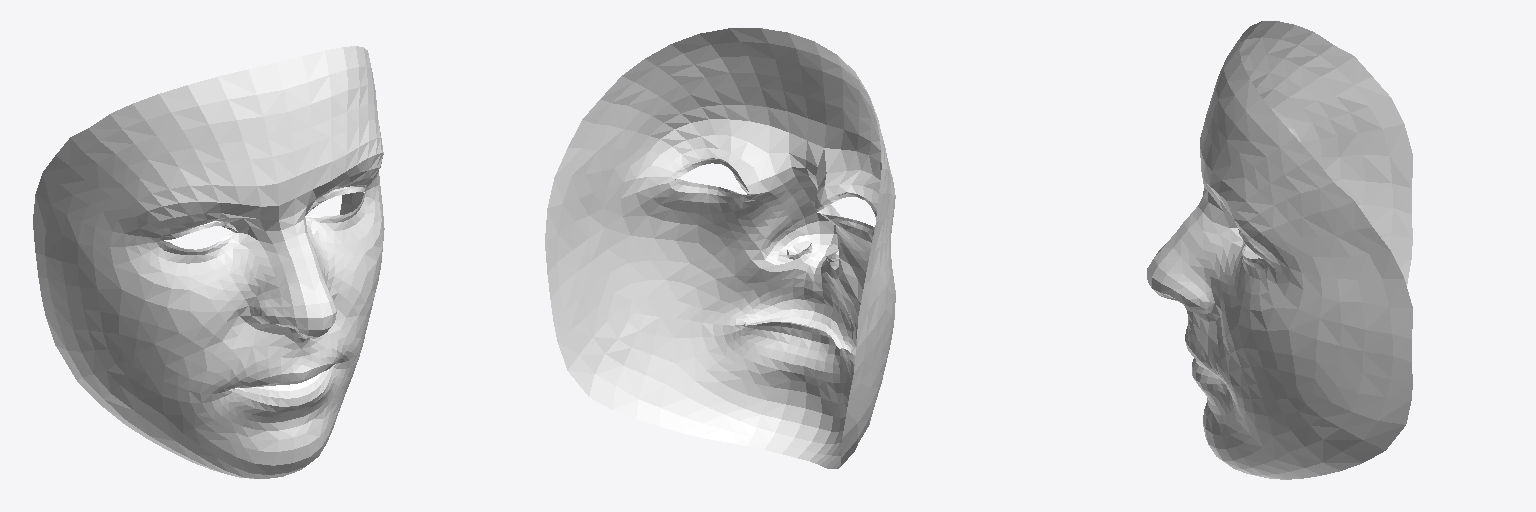
Rendered from noseSneer_R.obj.
3 views of the same model, side by side, from view 1: azimuth 30°, elevation 25°; view 2: azimuth 150°, elevation 25°; view 3: azimuth 270°, elevation 25° (orthographic).
Parts seen in each view (by area): view 1: default; view 2: default; view 3: default.
Boxes of the visible parts, <box> form: default: <box>33,46,384,478</box>; default: <box>545,28,895,468</box>; default: <box>1147,21,1412,479</box>.
Bounding box in the file's own units: 0.1447 × 0.182 × 0.1054.